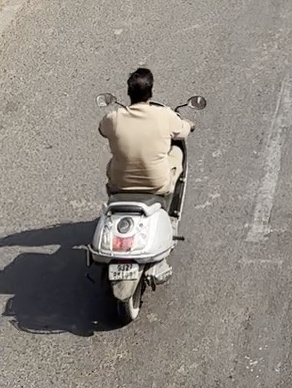BikeWithRider: (82, 63, 210, 324)
NoHelmet: (120, 64, 159, 109)
